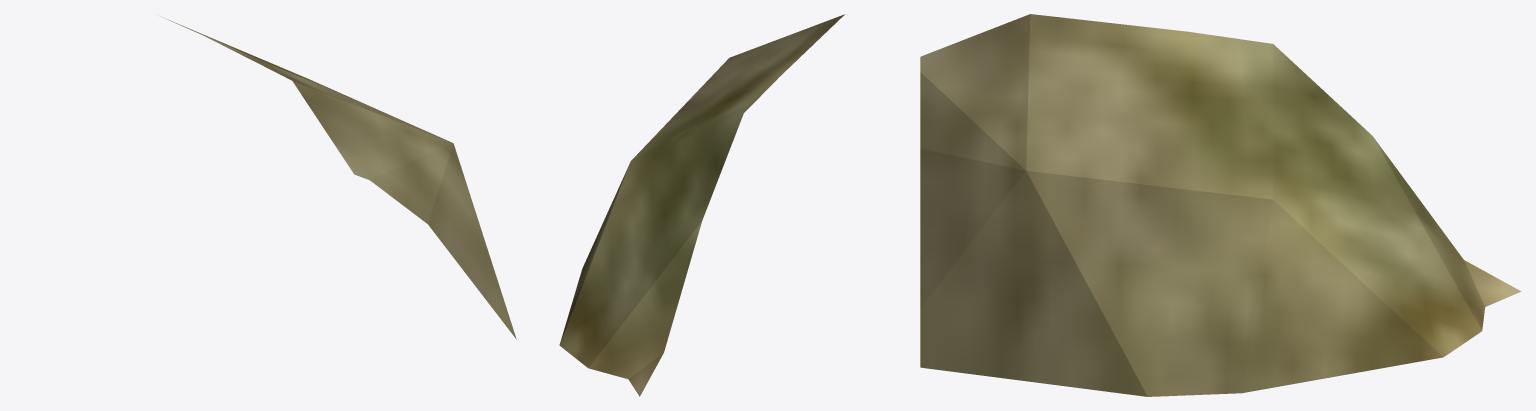
The picture shows the model from 3 angles, left to right: view 1: azimuth 30°, elevation 25°; view 2: azimuth 150°, elevation 25°; view 3: azimuth 270°, elevation 25°; orthographic projection. The views are drawn at different scales.
Bounding box in the file's own units: 0.1603 × 0.1966 × 0.3861.
1 material, 1 textured.
